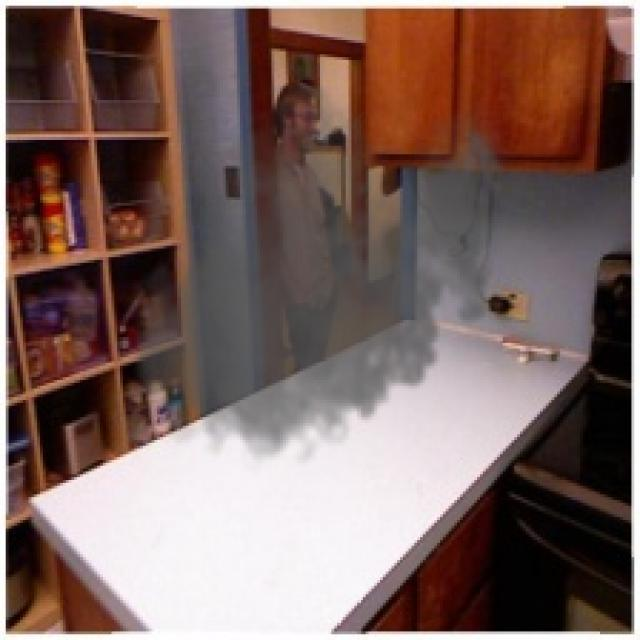Smoke: (125, 86, 518, 477)
